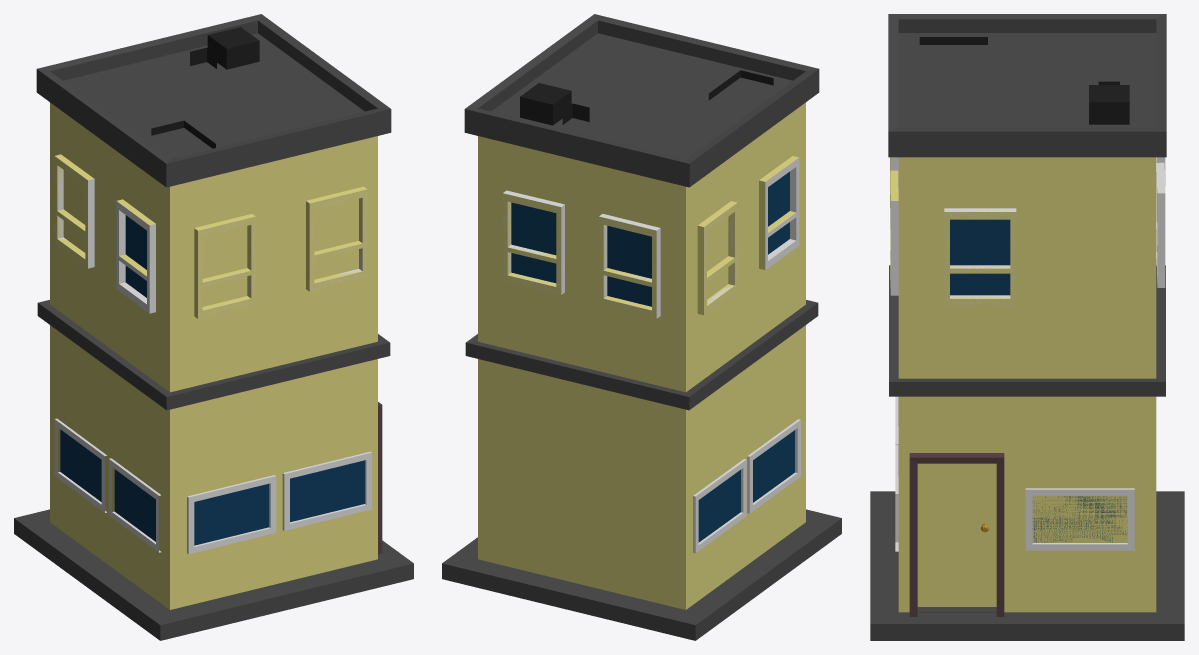
Rendered from building1.fbx.
3 views of the same model, side by side, from view 1: azimuth 30°, elevation 25°; view 2: azimuth 150°, elevation 25°; view 3: azimuth 270°, elevation 25° (orthographic). The views are drawn at different scales.
Visible parts, largest first — view 1: Building; view 2: Building; view 3: Building.
Boxes of the visible parts, x1,y1,x2,y2 form: Building: (14, 14, 413, 640); Building: (442, 14, 841, 640); Building: (870, 14, 1184, 640).
Size of the model in its own units: 244 by 438 by 244.
